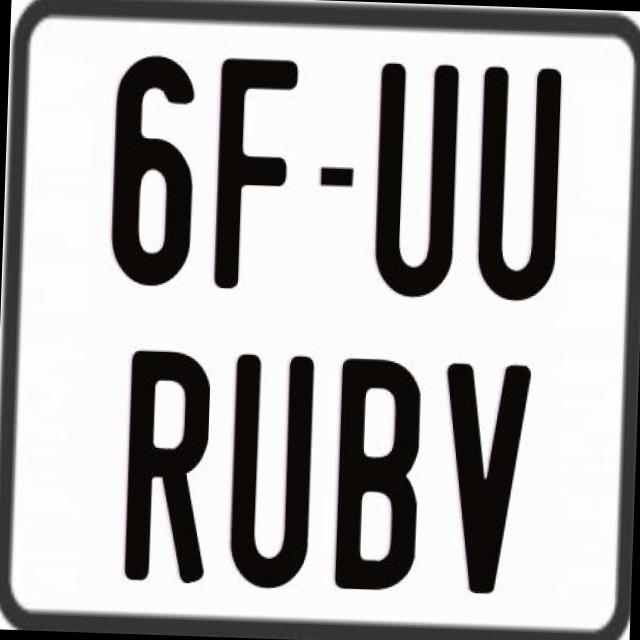6: (109, 49, 197, 288)
B: (330, 352, 424, 596)
F: (210, 52, 296, 287)
R: (120, 348, 208, 591)
U: (373, 59, 465, 302), (225, 349, 316, 587), (476, 65, 566, 301)
V: (434, 362, 530, 600)
